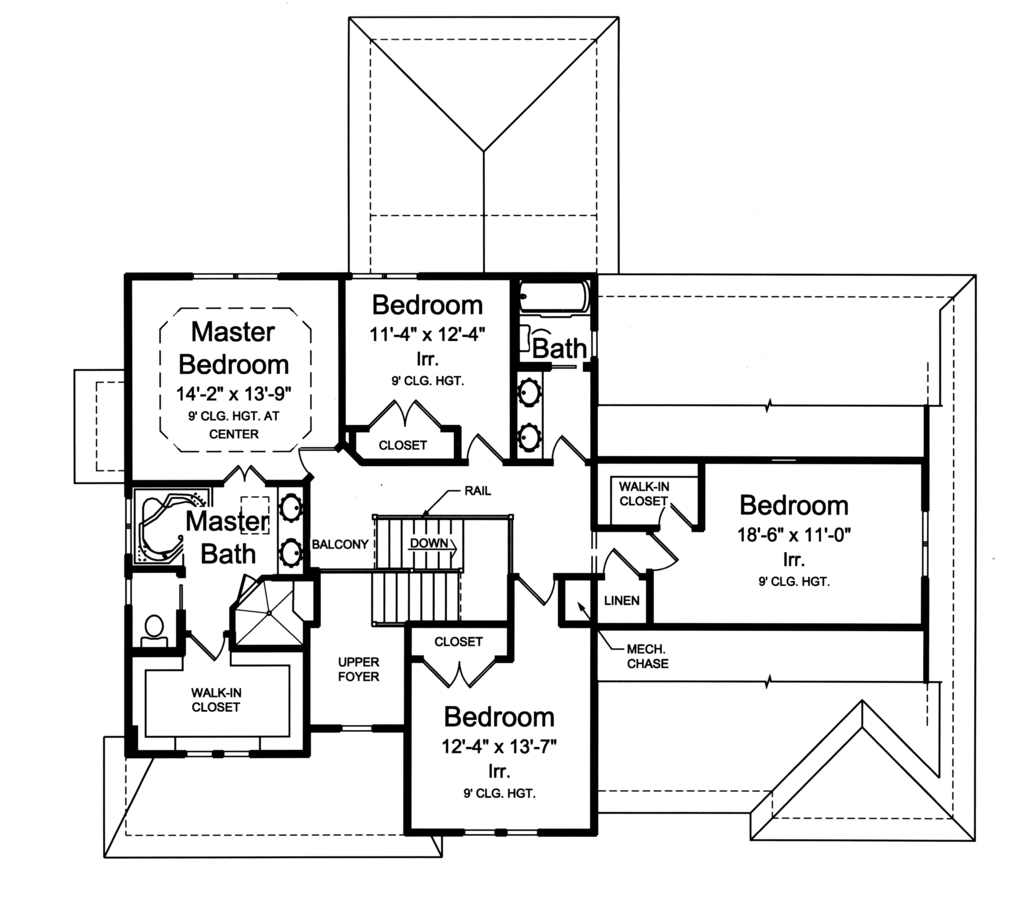door: (360, 396, 444, 429), (417, 655, 496, 689), (286, 441, 341, 474), (454, 429, 504, 462), (186, 628, 229, 665), (548, 433, 586, 471), (645, 531, 681, 571), (518, 571, 561, 602), (604, 544, 640, 580)
large_sink: (137, 611, 173, 652)
small_sink: (276, 483, 309, 579)
stairs: (356, 515, 511, 623)
tub: (124, 492, 210, 566), (510, 276, 594, 322)
windows: (170, 743, 256, 766), (184, 266, 282, 286), (335, 267, 420, 285), (916, 507, 933, 582), (454, 825, 539, 840)
